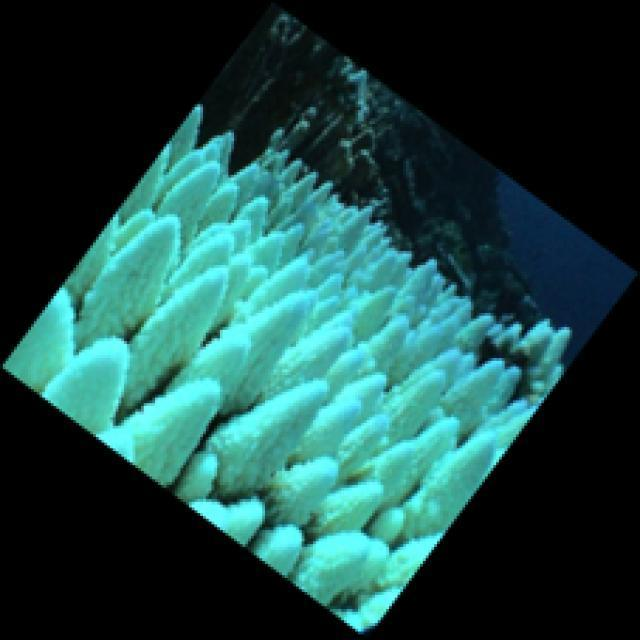Bleached: (1, 107, 547, 640), (499, 312, 576, 402)
